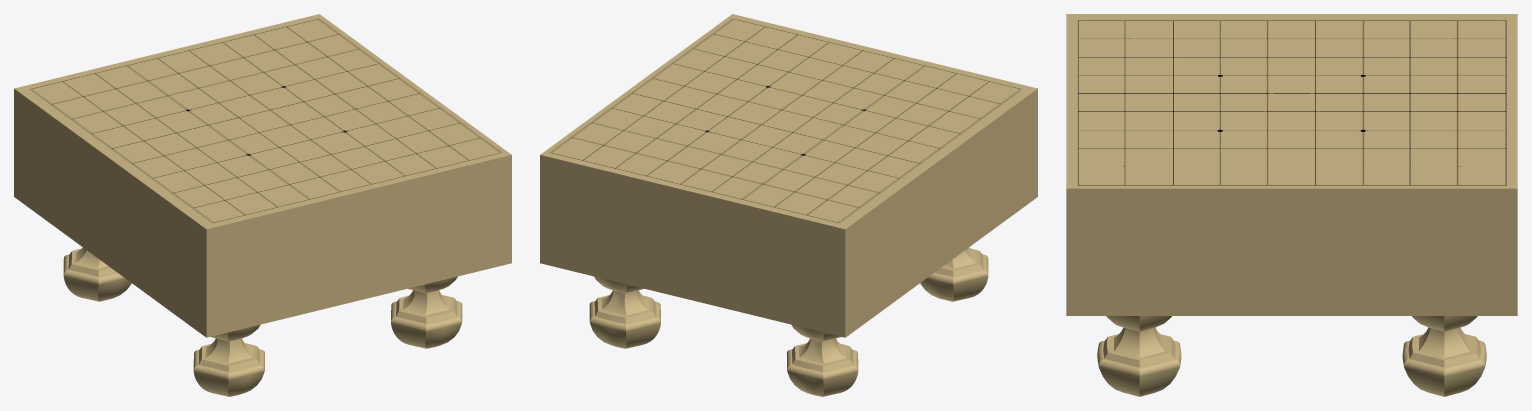
Rendered from ban.glb.
3 views of the same model, side by side, from view 1: azimuth 30°, elevation 25°; view 2: azimuth 150°, elevation 25°; view 3: azimuth 270°, elevation 25° (orthographic). The views are drawn at different scales.
Visible parts, largest first — view 1: syougi_ban; view 2: syougi_ban; view 3: syougi_ban.
Boxes of the visible parts, bbox=[...] form: syougi_ban: bbox=[14, 14, 511, 396]; syougi_ban: bbox=[540, 14, 1037, 396]; syougi_ban: bbox=[1066, 14, 1517, 396].
Size of the model in its own units: 0.339 by 0.209 by 0.37.
2 materials, 1 textured.
